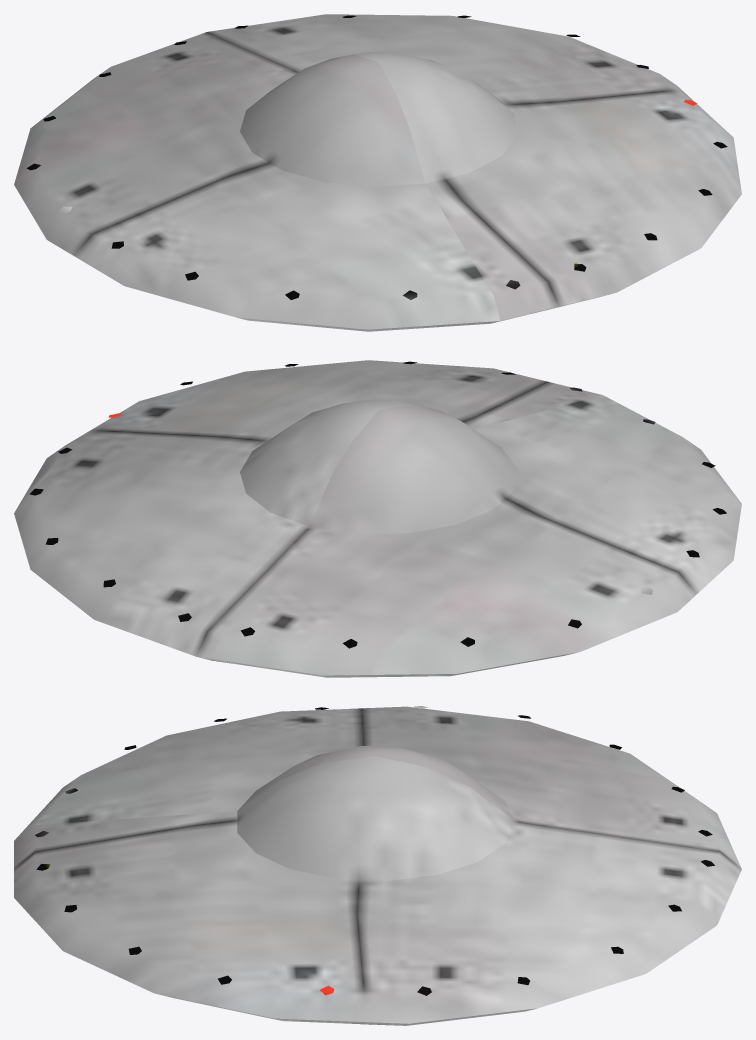
File: UFE.fbx
The picture shows the model from 3 angles, top to bottom: view 1: azimuth 30°, elevation 25°; view 2: azimuth 150°, elevation 25°; view 3: azimuth 270°, elevation 25°; orthographic projection.
Visible parts, largest first — view 1: Saucer, Lights; view 2: Saucer, Lights; view 3: Saucer, Lights.
Part boxes in pixels (<box>): Saucer: <box>14,14,741,331</box>; Lights: <box>26,15,727,299</box>; Saucer: <box>14,360,741,677</box>; Lights: <box>29,361,726,648</box>; Saucer: <box>14,706,741,1025</box>; Lights: <box>35,706,714,995</box>.
Size of the model in its own units: 3822 by 922 by 3805.
